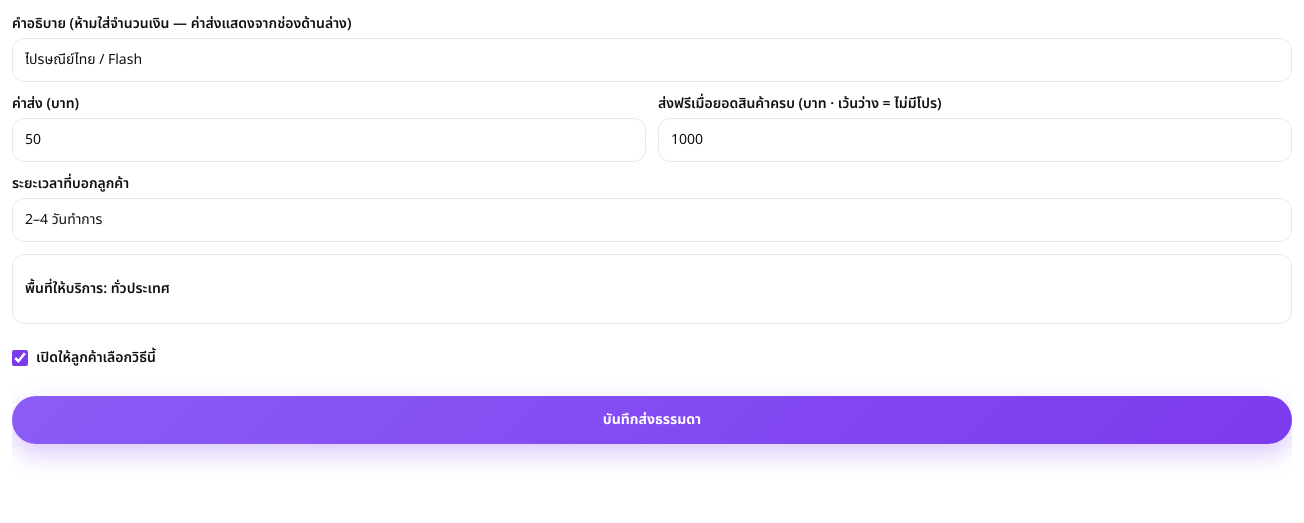
Test: ShippingRateEditor — แก้อัตราค่าส่ง (STEP 44) › ค่าส่งที่ไม่ใช่ตัวเลข → ไม่ยิง API และบอกรูปแบบที่ถูก
Replace the text in the field labelled "ค่าส่ง (บาท)" with "ห้าสิบ" at (329, 140), box [12, 118, 646, 162]
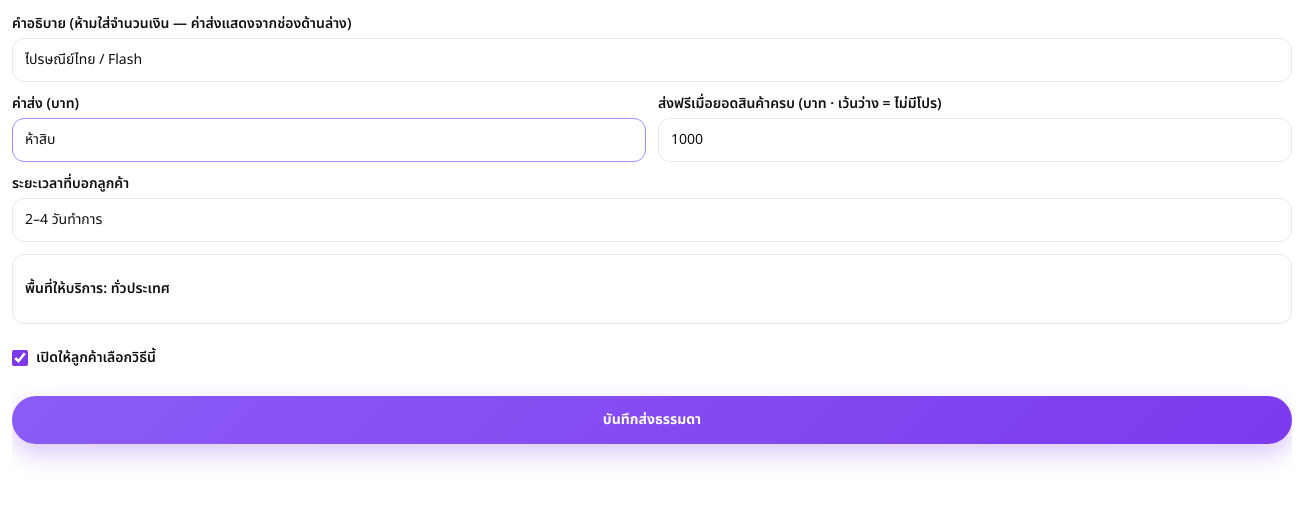
Click the button "บันทึกส่งธรรมดา" at (652, 420), box [12, 396, 1292, 444]
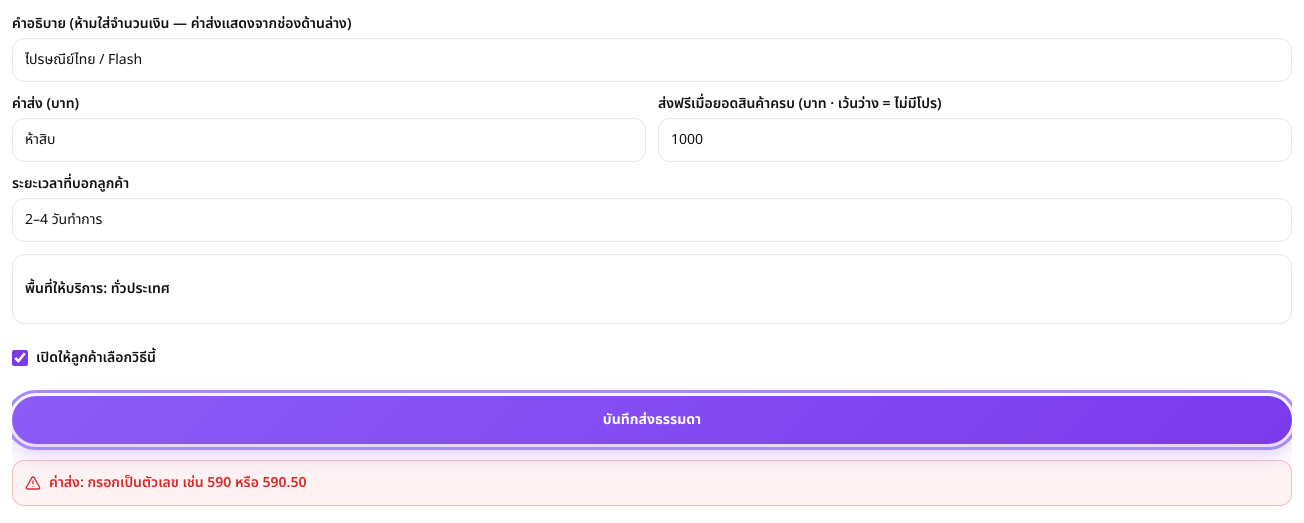
Now the message shows "ค่าส่ง", box [49, 472, 306, 493]
